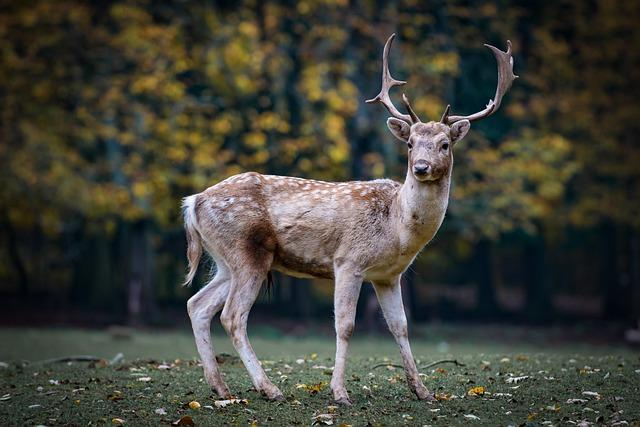Non_Gorille: (131, 7, 573, 406)
